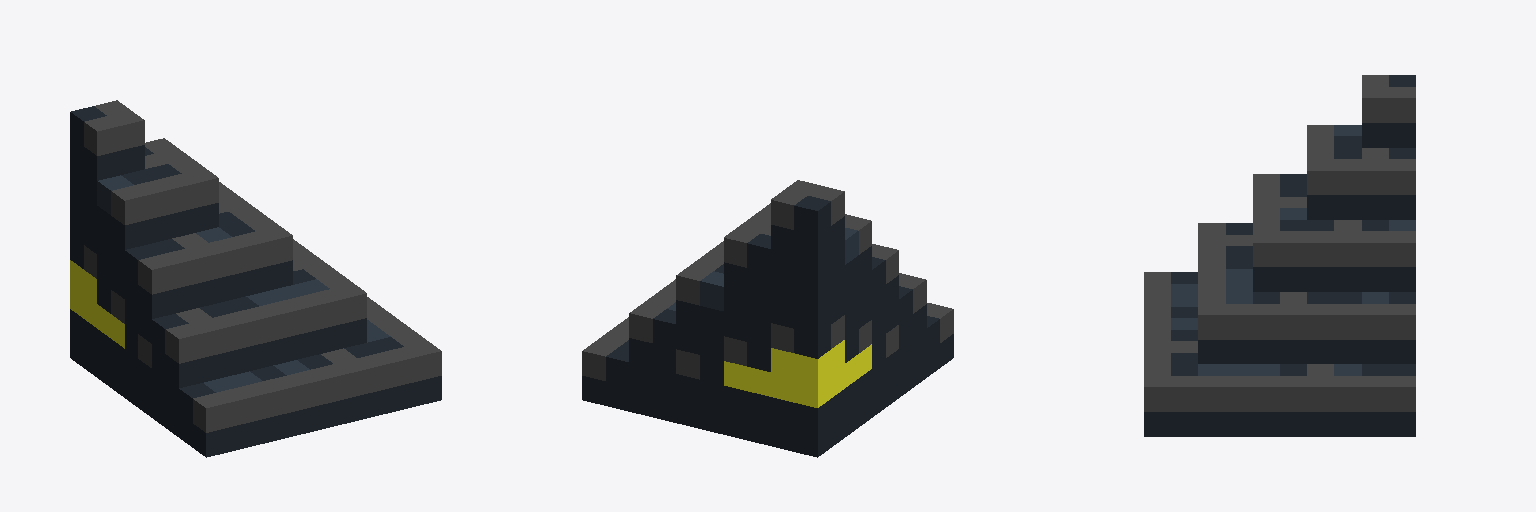
3 renders of one model, left to right at view 1: azimuth 30°, elevation 25°; view 2: azimuth 150°, elevation 25°; view 3: azimuth 270°, elevation 25°, orthographic.
Visible parts, largest first — view 1: object 1; view 2: object 1; view 3: object 1.
Part boxes in pixels (bbox=[...]): object 1: bbox=[70, 100, 441, 457]; object 1: bbox=[582, 180, 953, 457]; object 1: bbox=[1144, 75, 1415, 436].
Bounding box in the file's own units: 1 × 1 × 1.
Materials: 1 (1 with a texture image).